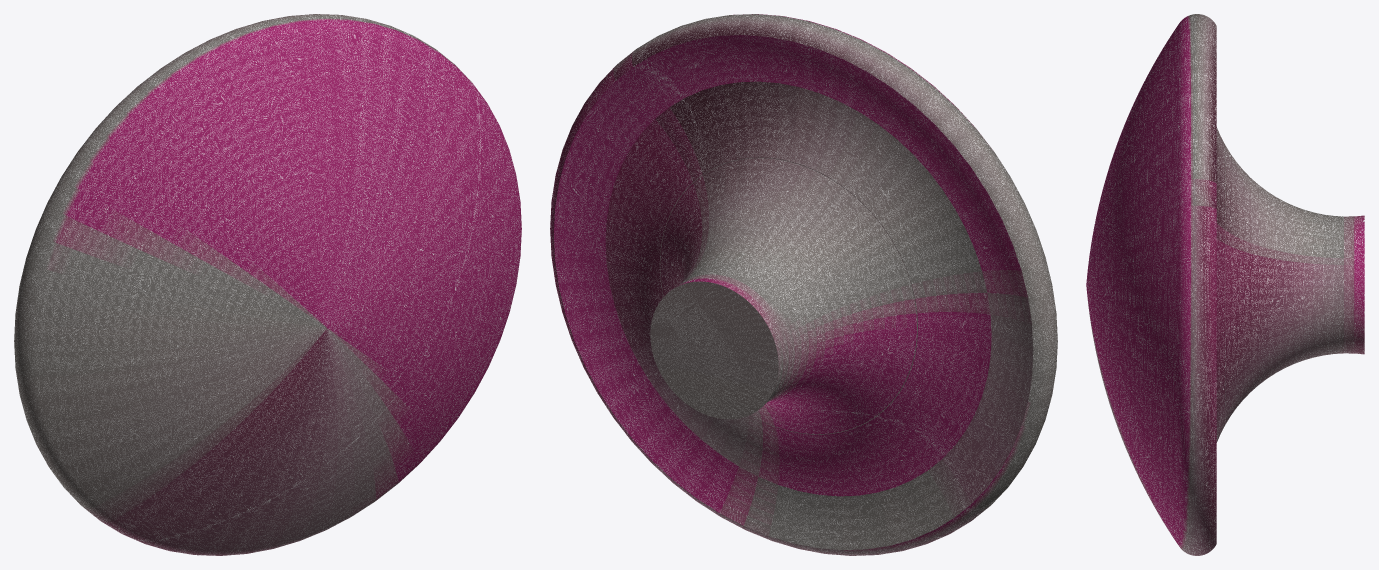
The model's file is original-41.obj.
3 renders of one model, left to right at view 1: azimuth 30°, elevation 25°; view 2: azimuth 150°, elevation 25°; view 3: azimuth 270°, elevation 25°, orthographic. The views are drawn at different scales.
Visible parts, largest first — view 1: Stickley_Knob_2_1/Stickley_Knob_2/Stickley_Knob_1_1/Stickley_Kno; view 2: Stickley_Knob_2_1/Stickley_Knob_2/Stickley_Knob_1_1/Stickley_Kno; view 3: Stickley_Knob_2_1/Stickley_Knob_2/Stickley_Knob_1_1/Stickley_Kno.
Part boxes in pixels (x1,y1,x2,y2): Stickley_Knob_2_1/Stickley_Knob_2/Stickley_Knob_1_1/Stickley_Kno: (14,14,521,555); Stickley_Knob_2_1/Stickley_Knob_2/Stickley_Knob_1_1/Stickley_Kno: (550,14,1057,555); Stickley_Knob_2_1/Stickley_Knob_2/Stickley_Knob_1_1/Stickley_Kno: (1086,14,1364,555).
Size of the model in its own units: 0.0383 by 0.0383 by 0.0197.
